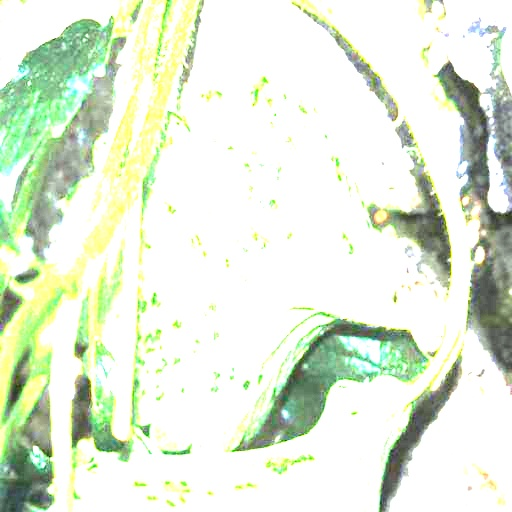Angular Leafspot: (55, 68, 418, 454), (45, 375, 421, 511)
